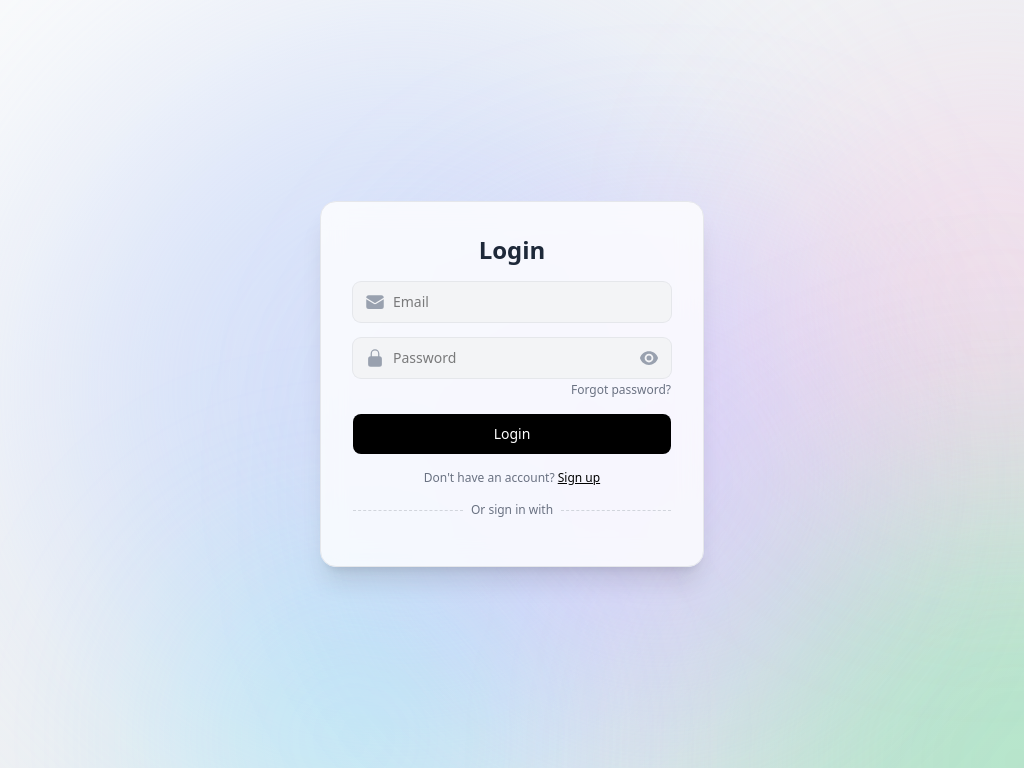
Test: Login › shows invalid credentials error
The width and height of the screenshot is (1024, 768).
In the field with placeholder "Email": x=512, y=302 [353,282,671,322], type "john@test.com"
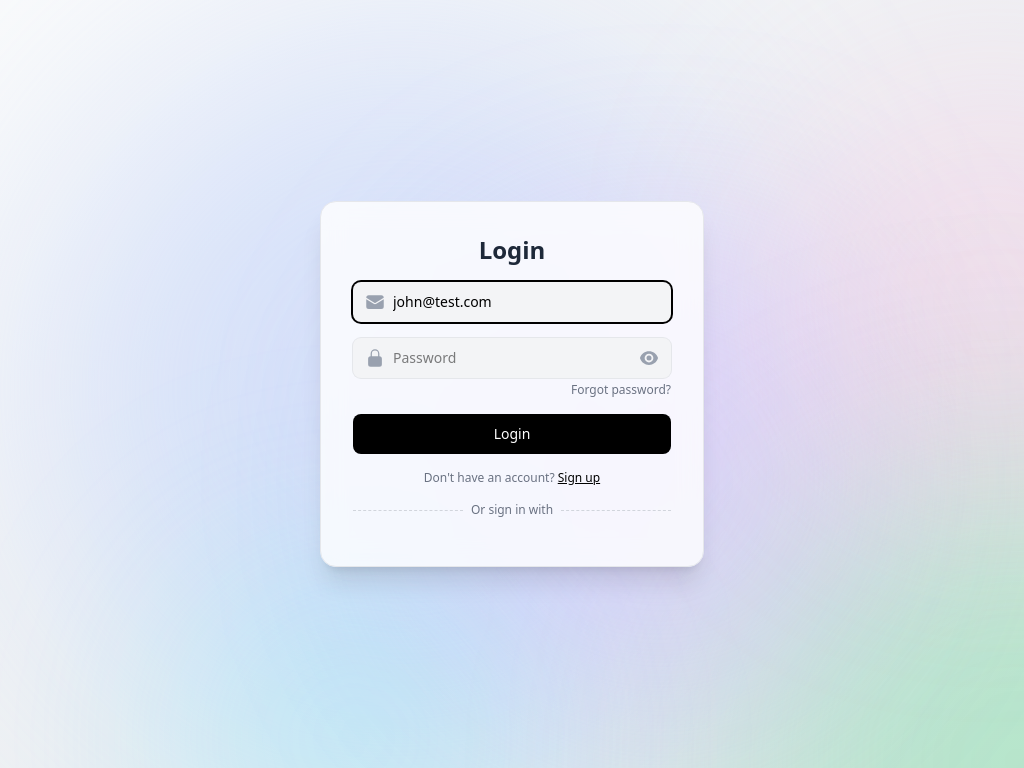
In the password field with placeholder "Password": x=512, y=358 [353,338,671,378], type "Str0ng!Pass"
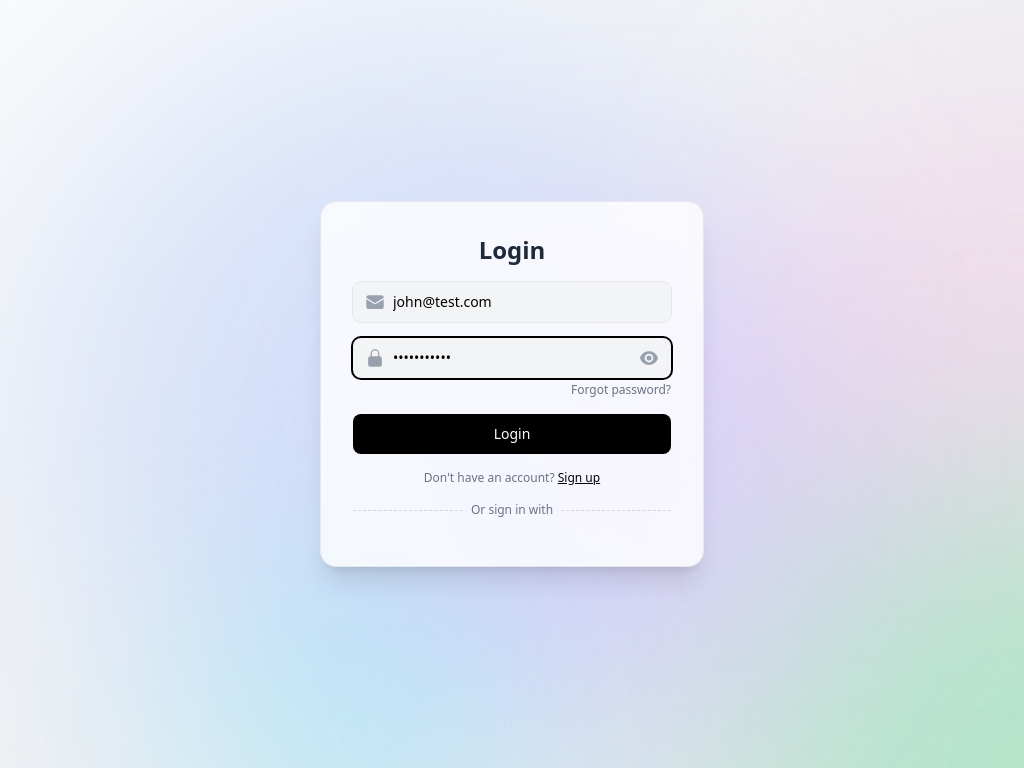
Click the button "Login": x=512, y=434 [353,414,671,454]
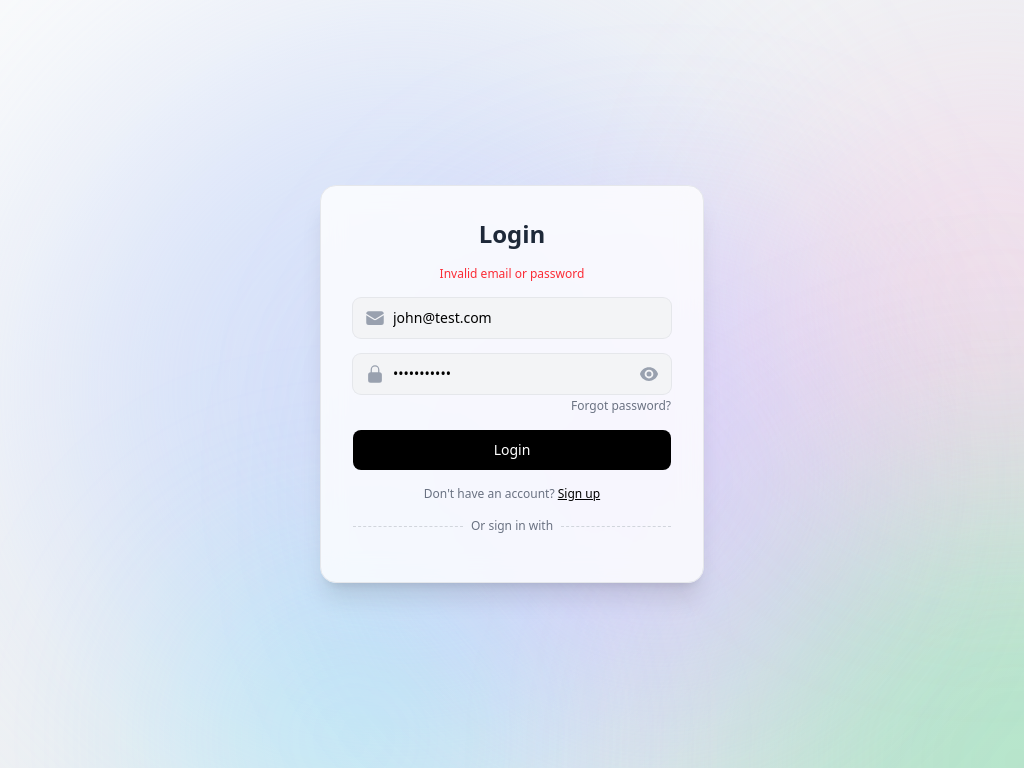
Now the text "Invalid email or password" is shown, box [440,265,584,282]
